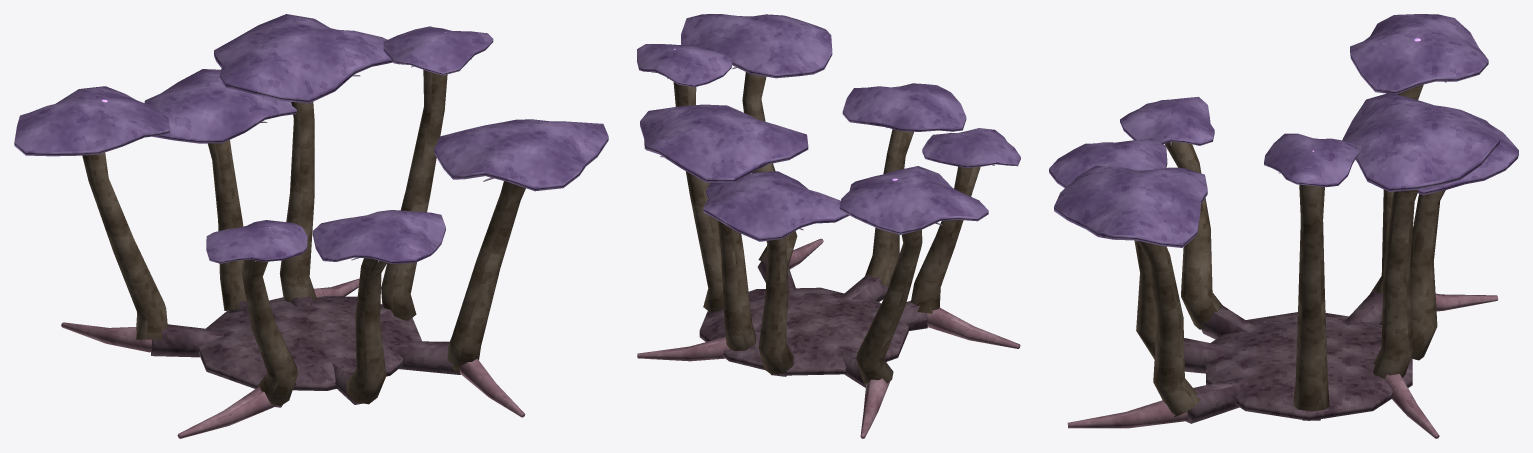
File: resonant_fungi_mature.glb
The picture shows the model from 3 angles, left to right: view 1: azimuth 30°, elevation 25°; view 2: azimuth 150°, elevation 25°; view 3: azimuth 270°, elevation 25°; orthographic projection. The views are drawn at different scales.
Parts seen in each view (by area): view 1: resonant_fungi_mature; view 2: resonant_fungi_mature; view 3: resonant_fungi_mature.
Boxes of the visible parts, x1,y1,x2,y2 form: resonant_fungi_mature: (14, 14, 608, 438); resonant_fungi_mature: (637, 14, 1020, 438); resonant_fungi_mature: (1049, 14, 1518, 438).
Bounding box in the file's own units: 1.05 × 0.6451 × 0.9105.
6 materials, 5 textured.
